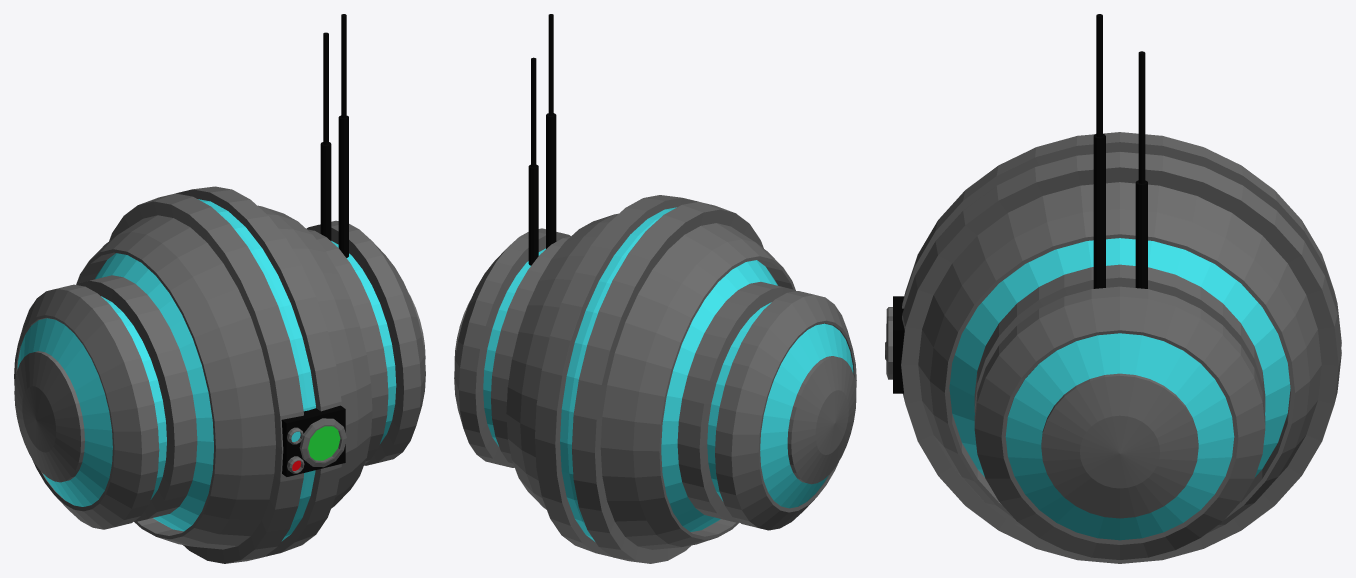
Rendered from scout drone.fbx.
3 renders of one model, left to right at view 1: azimuth 30°, elevation 25°; view 2: azimuth 150°, elevation 25°; view 3: azimuth 270°, elevation 25°, orthographic. The views are drawn at different scales.
Visible parts, largest first — view 1: Sphere, Cylinder.003, Cylinder.004, Cylinder, Cube; view 2: Sphere, Cylinder.003, Cylinder.004; view 3: Sphere, Cylinder.003, Cylinder.004, Cube.
Part boxes in pixels (bbox=[...]): Sphere: bbox=[14, 186, 425, 563]; Cylinder.003: bbox=[338, 14, 348, 257]; Cylinder.004: bbox=[320, 32, 331, 240]; Cylinder: bbox=[299, 418, 346, 467]; Cube: bbox=[281, 405, 345, 476]; Sphere: bbox=[454, 195, 856, 563]; Cylinder.003: bbox=[546, 14, 556, 248]; Cylinder.004: bbox=[528, 57, 538, 265]; Sphere: bbox=[901, 132, 1341, 563]; Cylinder.003: bbox=[1093, 14, 1105, 288]; Cylinder.004: bbox=[1135, 51, 1147, 288]; Cube: bbox=[893, 296, 904, 393].
Size of the model in its own units: 243 by 322 by 222.
